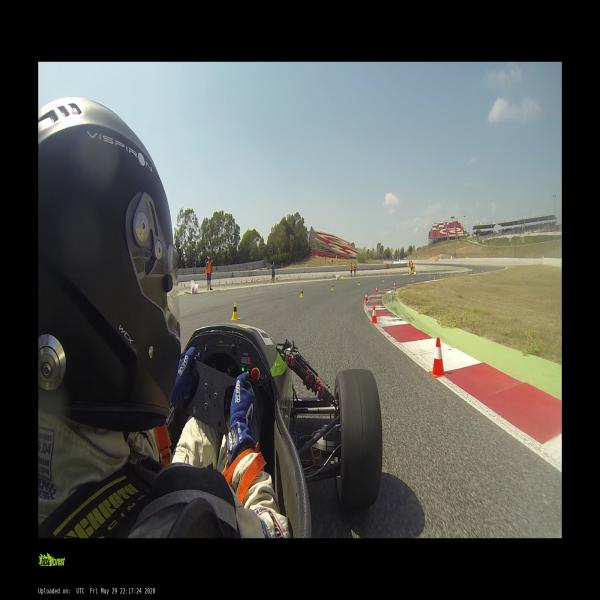orange_cone: (429, 338, 447, 378), (370, 305, 378, 324), (364, 292, 368, 302), (374, 286, 378, 293), (393, 282, 396, 288), (412, 279, 414, 284), (457, 274, 459, 277), (446, 276, 448, 278), (464, 273, 466, 275), (474, 272, 476, 274), (434, 277, 435, 280), (482, 271, 482, 273)
yellow_cone: (230, 302, 240, 320), (299, 288, 304, 298), (331, 284, 334, 290), (358, 280, 360, 286), (382, 278, 384, 282), (225, 281, 227, 285), (273, 278, 275, 282), (411, 276, 413, 279), (428, 274, 430, 277), (450, 273, 452, 275), (241, 280, 242, 284), (256, 280, 258, 282), (271, 278, 272, 282), (384, 272, 385, 275), (439, 274, 440, 276), (379, 273, 380, 275), (387, 272, 388, 274), (359, 274, 360, 276), (367, 274, 368, 276)
